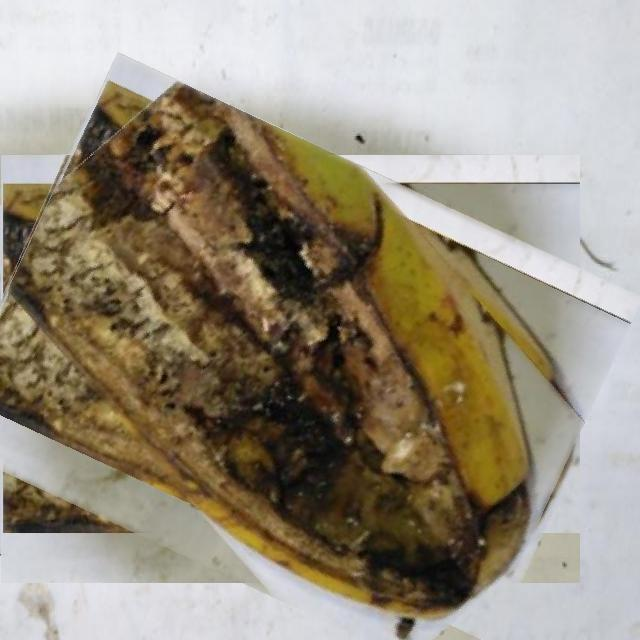Podre: (0, 103, 611, 634)
